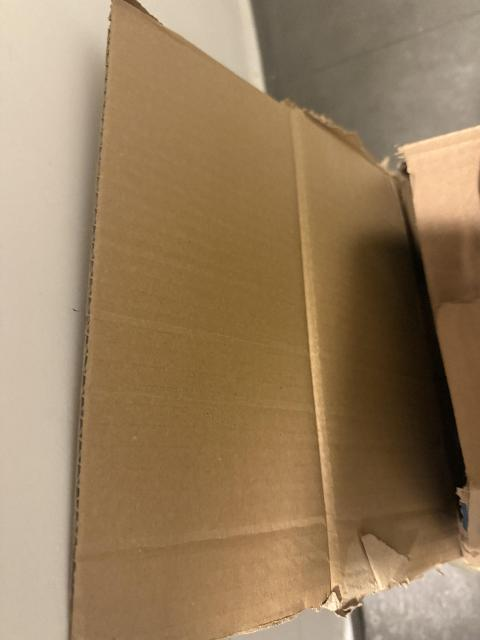Kagit: (69, 0, 480, 640)
